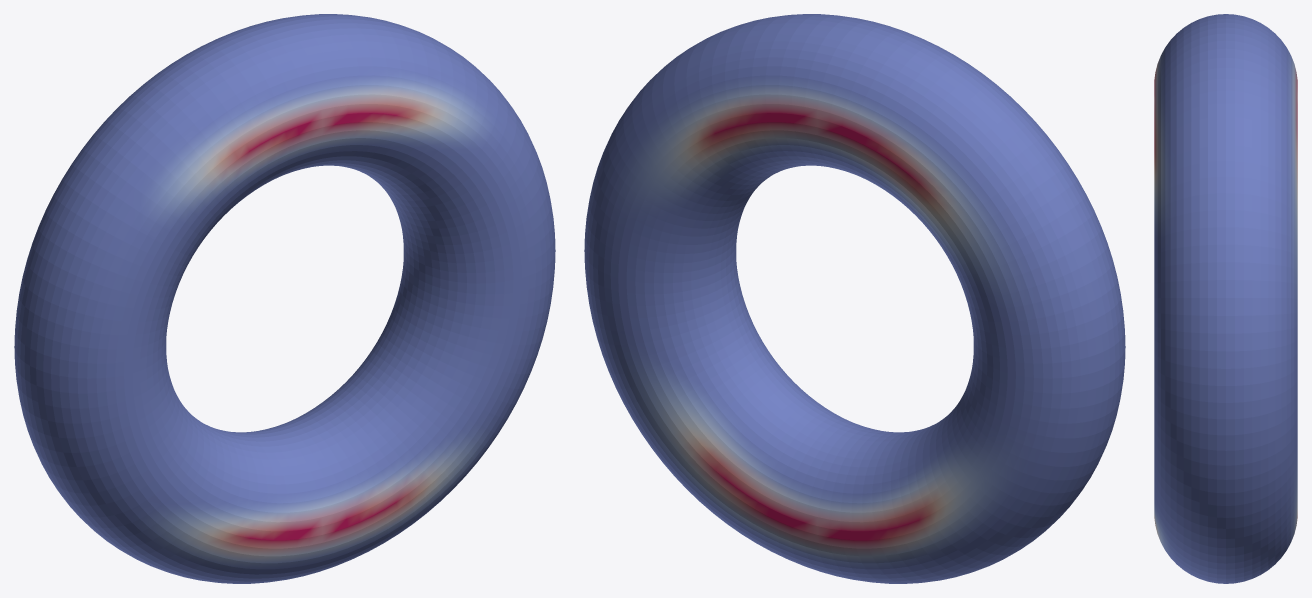
3 renders of one model, left to right at view 1: azimuth 30°, elevation 25°; view 2: azimuth 150°, elevation 25°; view 3: azimuth 270°, elevation 25°, orthographic. The views are drawn at different scales.
Parts seen in each view (by area): view 1: world; view 2: world; view 3: world.
Part boxes in pixels (<box>): world: <box>14,14,555,583</box>; world: <box>584,14,1125,583</box>; world: <box>1154,14,1297,583</box>.
Size of the model in its own units: 14.27 by 14.27 by 3.59.
